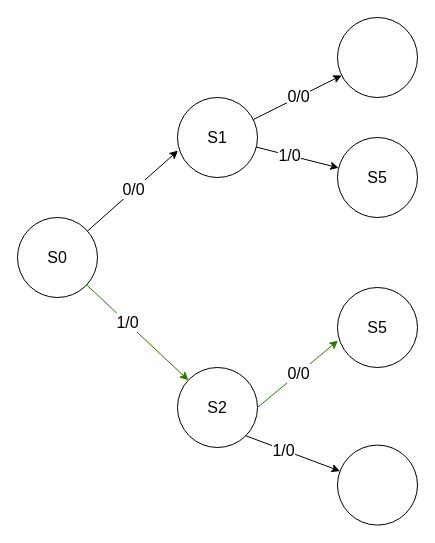
Some shapes in this 435 by 543 pixel diagram are drawn without their labels. The centre of each missing label's shape, as x and y in pixels:
"S3" goes at (377,57).
"S6" goes at (377,484).
